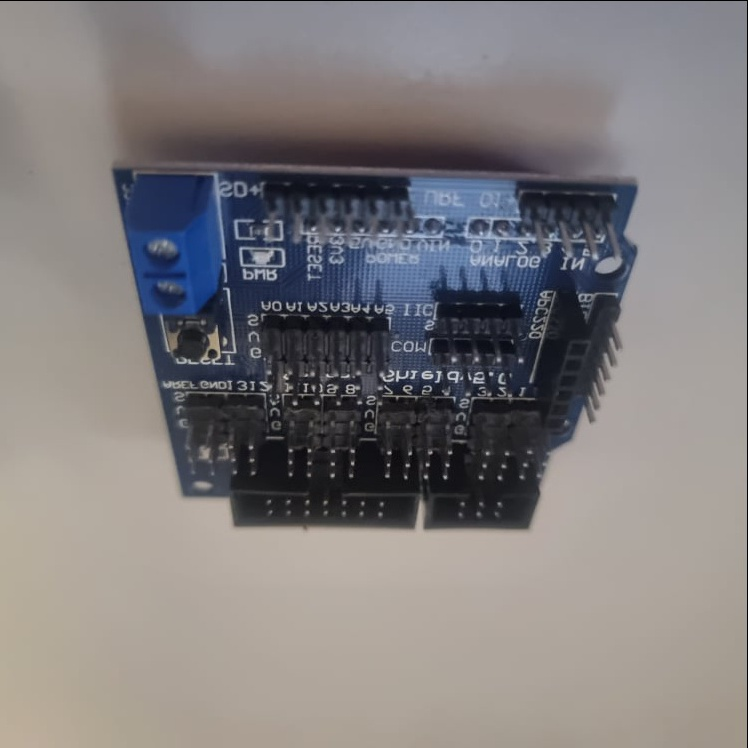5V EXPANSION: (113, 171, 645, 538)
